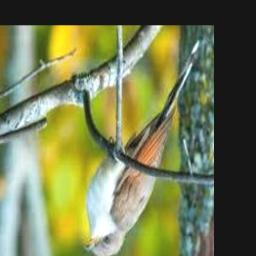Cuckoo: (85, 41, 200, 256)
